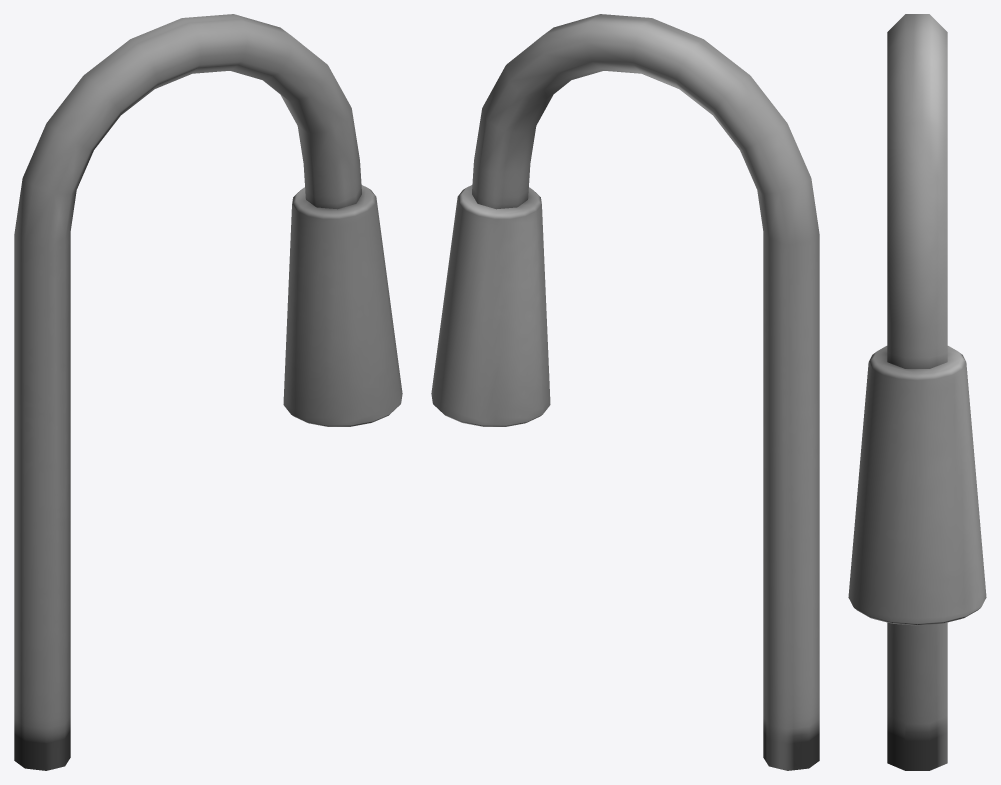
The model's file is JapaneseRestaurant_SinkB.fbx.
3 renders of one model, left to right at view 1: azimuth 30°, elevation 25°; view 2: azimuth 150°, elevation 25°; view 3: azimuth 270°, elevation 25°, orthographic. The views are drawn at different scales.
Parts seen in each view (by area): view 1: JapaneseRestaurant_SinkB; view 2: JapaneseRestaurant_SinkB; view 3: JapaneseRestaurant_SinkB.
Part boxes in pixels (box(x1,y1,x2,y2)): JapaneseRestaurant_SinkB: box(14, 14, 402, 770); JapaneseRestaurant_SinkB: box(431, 14, 819, 770); JapaneseRestaurant_SinkB: box(848, 14, 986, 770).
Bounding box in the file's own units: 19.39 × 34.64 × 5.38.
